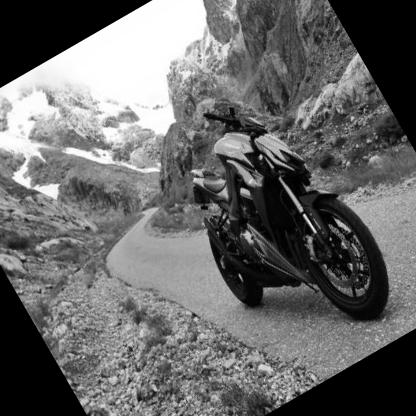moto: (126, 68, 416, 397)
